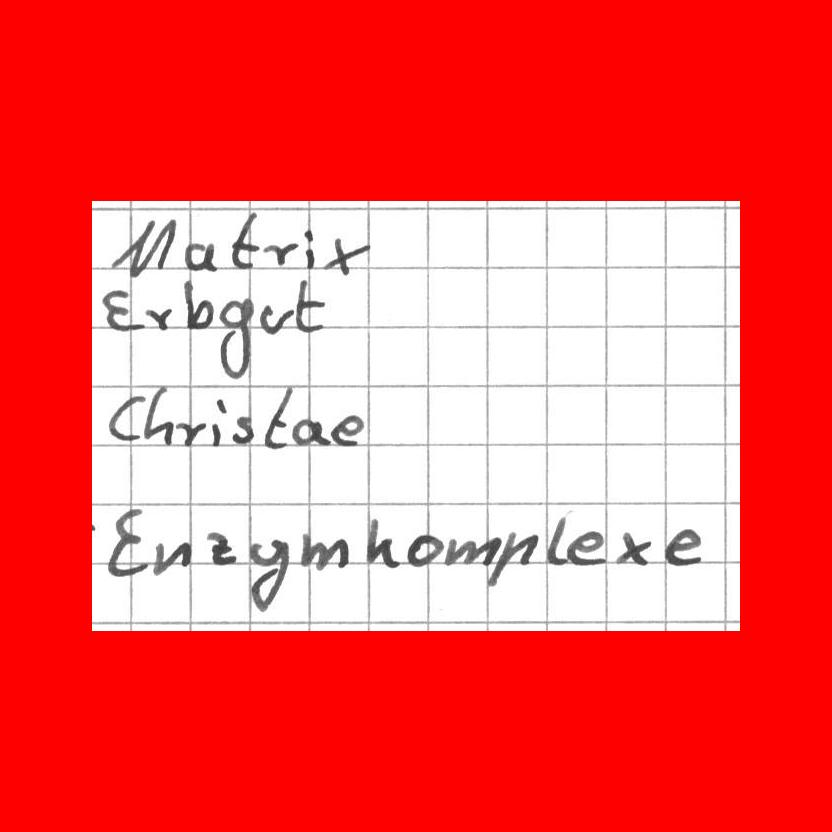Char: (111, 217, 177, 276), (216, 299, 253, 380), (249, 539, 291, 609), (106, 509, 149, 574), (491, 532, 537, 585), (297, 532, 353, 573), (324, 233, 369, 281), (227, 208, 259, 275), (106, 390, 143, 446), (101, 286, 142, 336), (363, 515, 400, 569), (180, 278, 215, 335), (443, 535, 501, 568), (263, 384, 290, 450), (144, 383, 172, 442), (664, 526, 702, 568), (151, 538, 192, 576), (614, 528, 651, 567), (296, 282, 325, 331), (406, 532, 444, 568), (570, 529, 604, 566), (545, 512, 568, 566), (329, 413, 364, 447), (183, 239, 216, 275), (205, 529, 237, 566), (258, 304, 291, 337), (291, 417, 326, 448), (262, 237, 298, 267), (173, 418, 205, 447), (209, 396, 226, 447), (143, 303, 172, 332), (230, 412, 254, 445), (302, 226, 316, 268)
